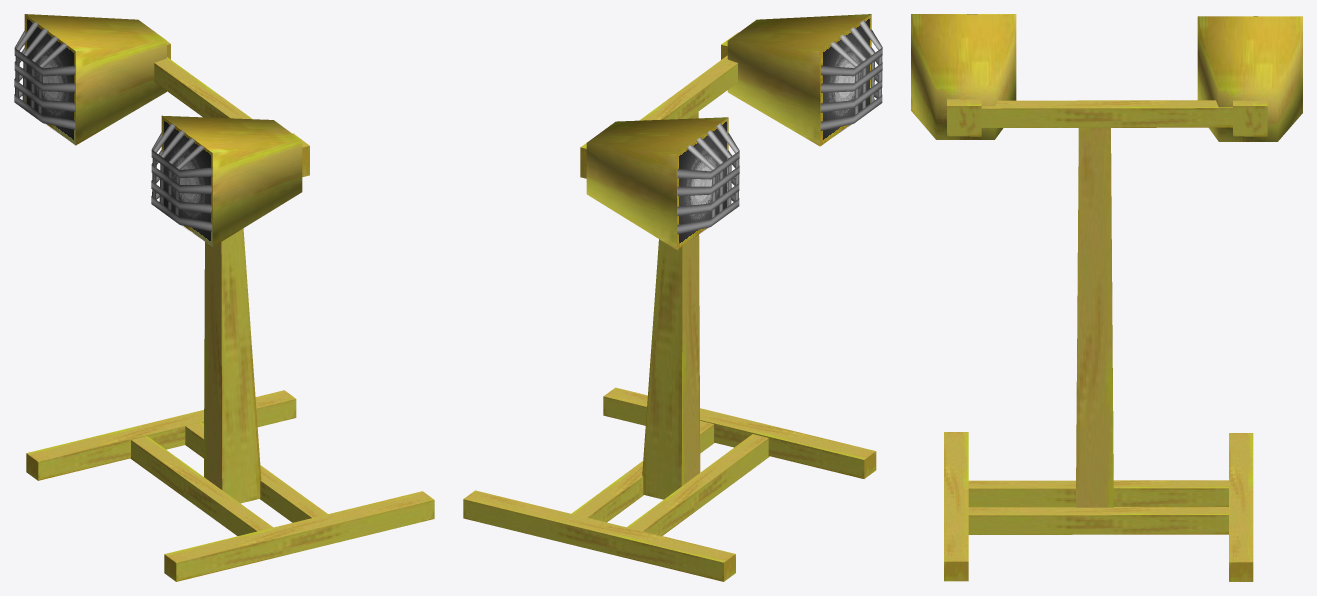
The model's file is floodlight_2.obj.
The picture shows the model from 3 angles, left to right: view 1: azimuth 30°, elevation 25°; view 2: azimuth 150°, elevation 25°; view 3: azimuth 270°, elevation 25°; orthographic projection. The views are drawn at different scales.
Parts seen in each view (by area): view 1: default, grate, 2; view 2: default, grate, 2; view 3: default.
Part boxes in pixels (left/top/right/bottom): default: left=25, top=14, right=434, bottom=581; grate: left=14, top=21, right=212, bottom=237; 2: left=24, top=14, right=212, bottom=246; default: left=463, top=14, right=876, bottom=581; grate: left=677, top=19, right=882, bottom=241; 2: left=677, top=14, right=871, bottom=249; default: left=911, top=14, right=1302, bottom=581.
Size of the model in its own units: 24.11 by 38.71 by 30.58.
Materials: 3 (3 with a texture image).
